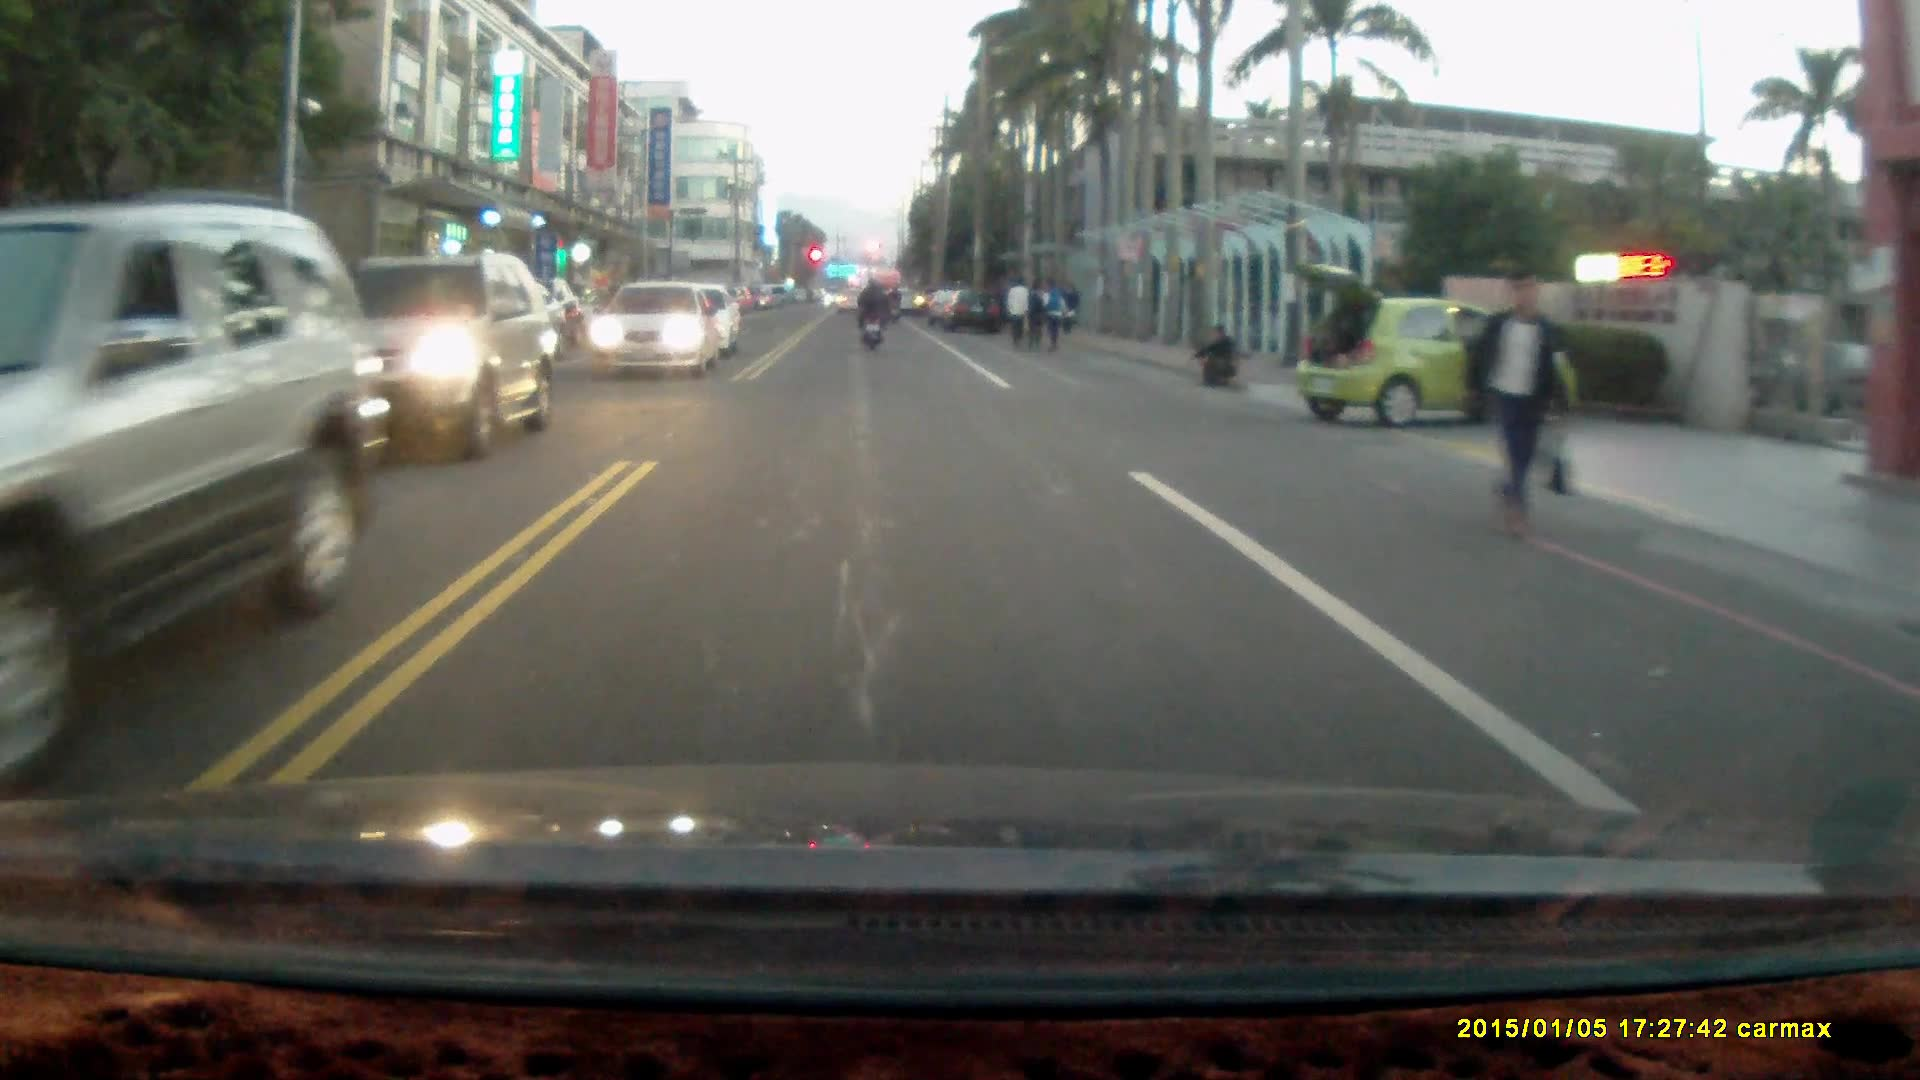pedestrian: (1459, 263, 1572, 541), (1195, 324, 1240, 392), (1037, 276, 1070, 351), (1005, 278, 1031, 357), (1023, 283, 1048, 355)
rider: (853, 276, 889, 351)
vehicle: (1, 198, 386, 816), (269, 253, 559, 466), (1294, 263, 1552, 430), (587, 282, 718, 380), (943, 282, 1003, 334)
